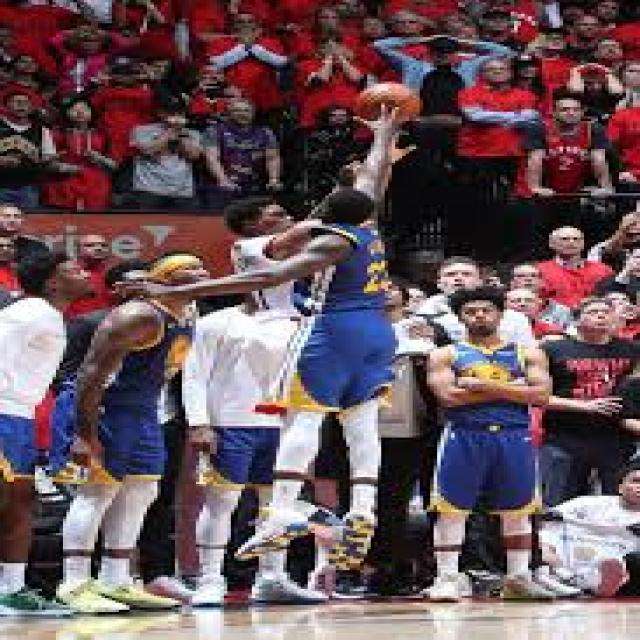rim: (356, 79, 424, 128)
